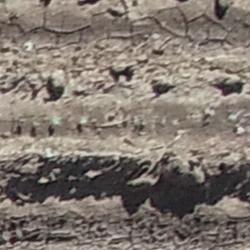cotton: (78, 117, 87, 124), (51, 119, 58, 126), (34, 123, 38, 127)
